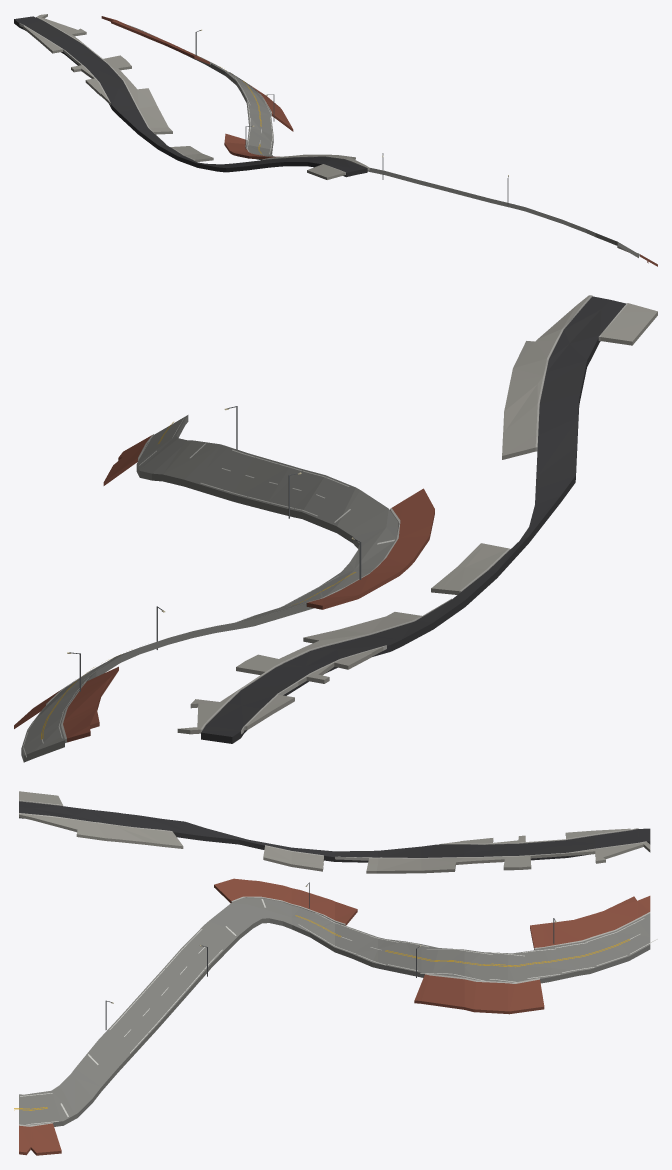
3 renders of one model, top to bottom at view 1: azimuth 30°, elevation 25°; view 2: azimuth 150°, elevation 25°; view 3: azimuth 270°, elevation 25°, orthographic. The views are drawn at different scales.
Bounding box in the file's own units: 104 × 48.46 × 149.
